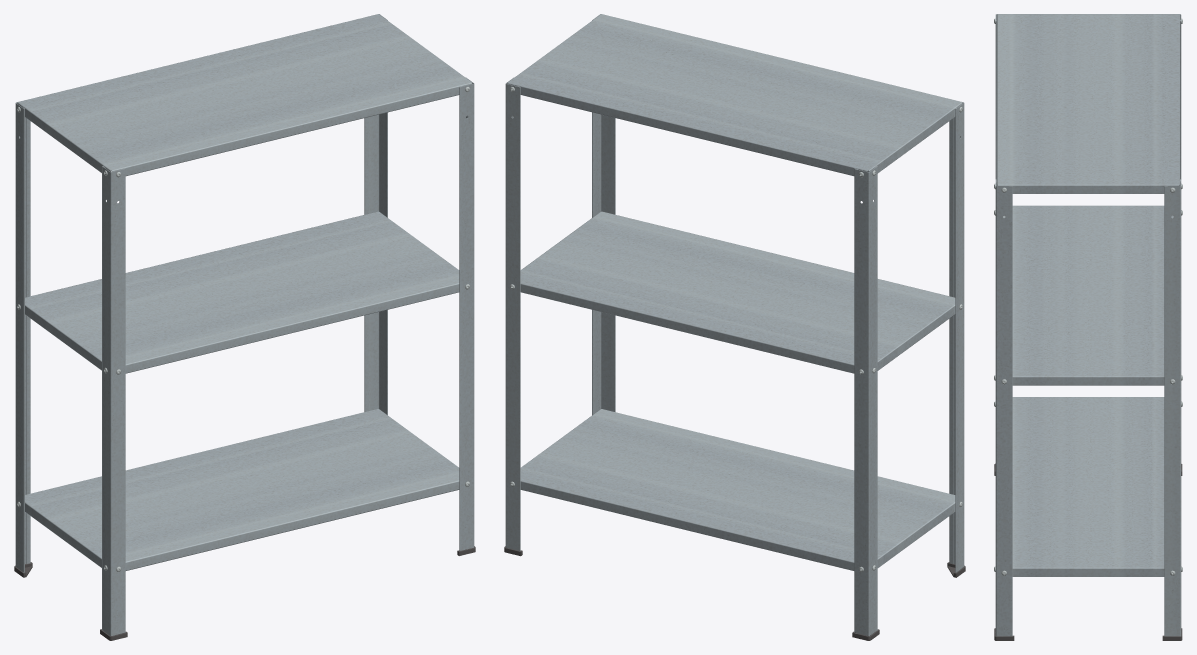
The model's file is storage-11.glb.
The picture shows the model from 3 angles, left to right: view 1: azimuth 30°, elevation 25°; view 2: azimuth 150°, elevation 25°; view 3: azimuth 270°, elevation 25°; orthographic projection. The views are drawn at different scales.
Parts seen in each view (by area): view 1: Mesh_0; view 2: Mesh_0; view 3: Mesh_0.
Boxes of the visible parts, x1,y1,x2,y2 form: Mesh_0: [14, 14, 475, 640]; Mesh_0: [504, 14, 965, 640]; Mesh_0: [994, 14, 1182, 640].
Bounding box in the file's own units: 0.6062 × 0.74 × 0.2784.
Materials: 1 (1 with a texture image).
